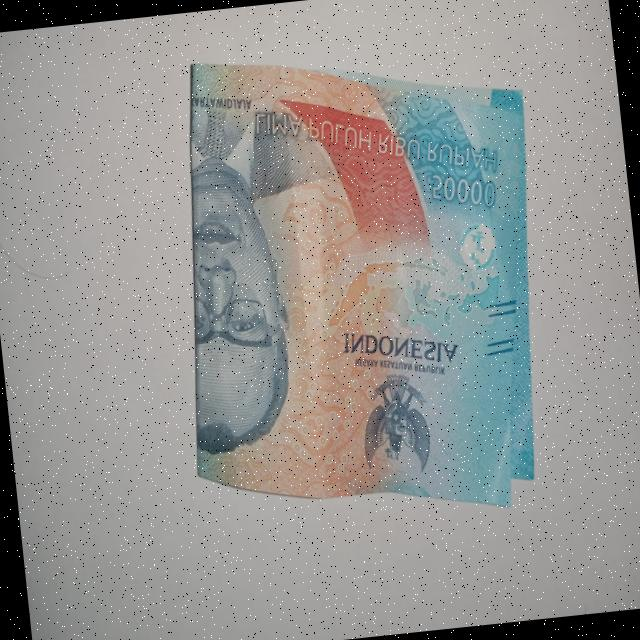50K: (144, 21, 574, 559)
